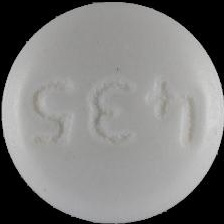68462-435: (0, 0, 224, 224)
